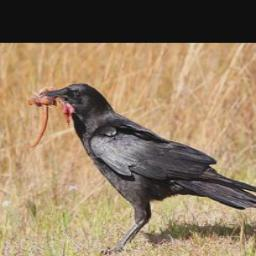Crow: (17, 77, 256, 253)
